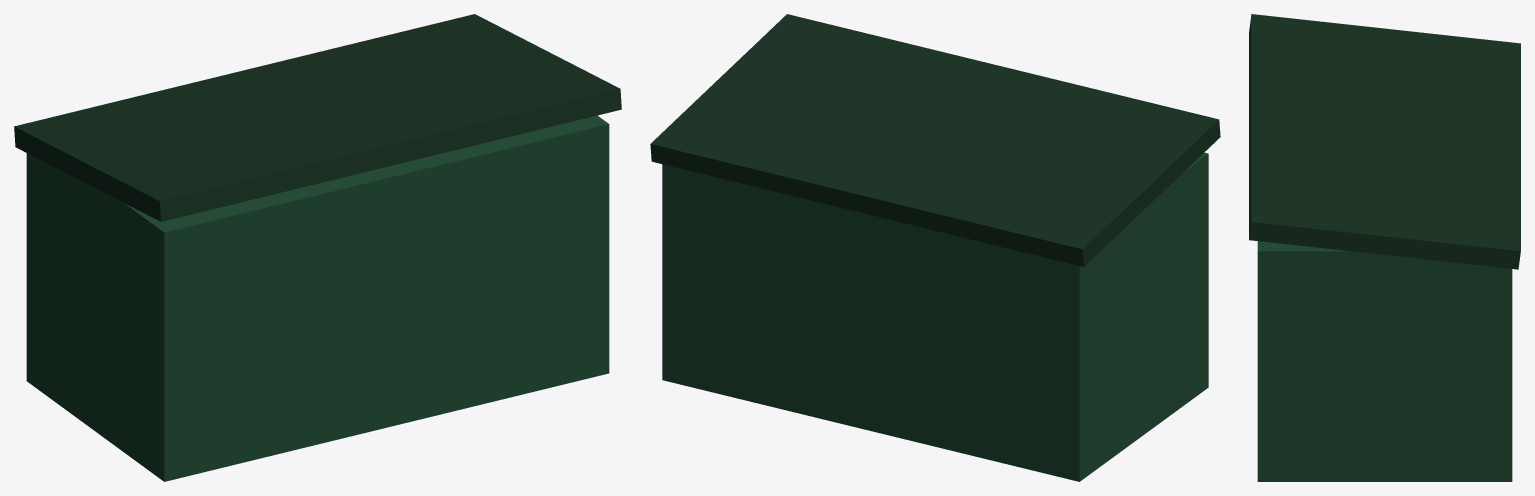
The model's file is Detail_10_-30.glb.
The picture shows the model from 3 angles, left to right: view 1: azimuth 30°, elevation 25°; view 2: azimuth 150°, elevation 25°; view 3: azimuth 270°, elevation 25°; orthographic projection. The views are drawn at different scales.
Parts seen in each view (by area): view 1: Detail_10_-30; view 2: Detail_10_-30; view 3: Detail_10_-30.
Part boxes in pixels (x1,y1,x2,y2): Detail_10_-30: [14, 14, 621, 481]; Detail_10_-30: [650, 14, 1220, 481]; Detail_10_-30: [1249, 14, 1520, 481].
Bounding box in the file's own units: 2.9 × 1.72 × 1.6.
